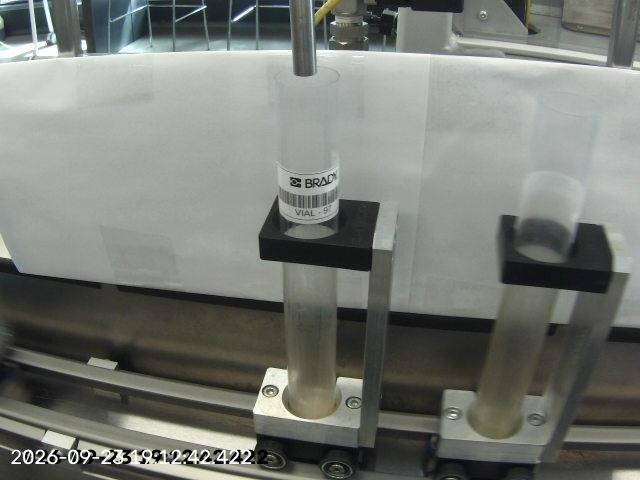vial: (470, 91, 606, 437), (272, 65, 343, 417)
